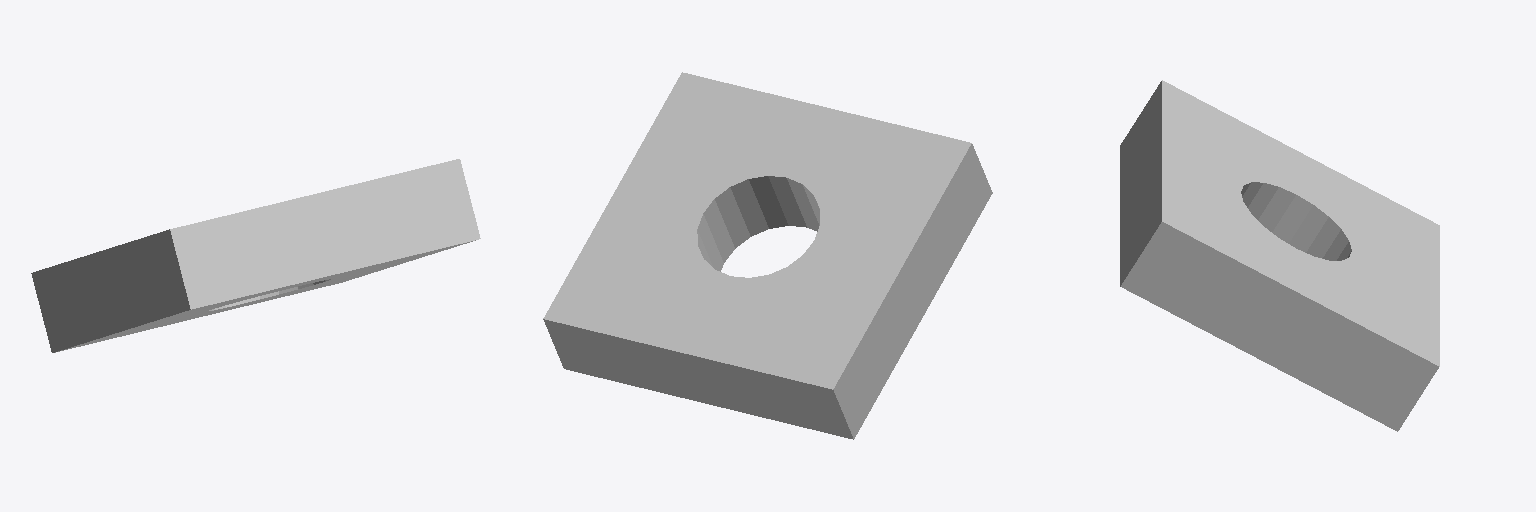
Rendered from planeRot.obj.
The picture shows the model from 3 angles: view 1: azimuth 30°, elevation 25°; view 2: azimuth 150°, elevation 25°; view 3: azimuth 270°, elevation 25°; orthographic projection.
Parts seen in each view (by area): view 1: plane:polySurface1; view 2: plane:polySurface1; view 3: plane:polySurface1.
Boxes of the visible parts, <box> form: plane:polySurface1: <box>31,159,480,352</box>; plane:polySurface1: <box>543,72,992,439</box>; plane:polySurface1: <box>1120,80,1439,431</box>.
Size of the model in its own units: 10.87 by 7.54 by 10.36.